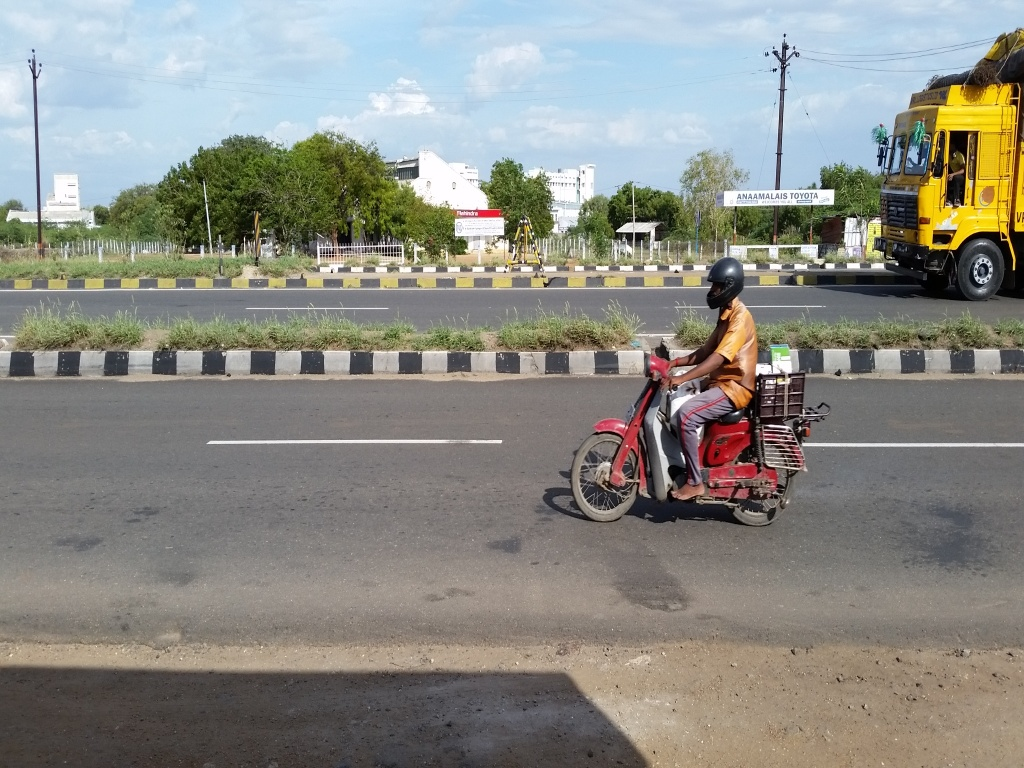biker: (553, 238, 828, 543)
helmet: (702, 250, 755, 312)
